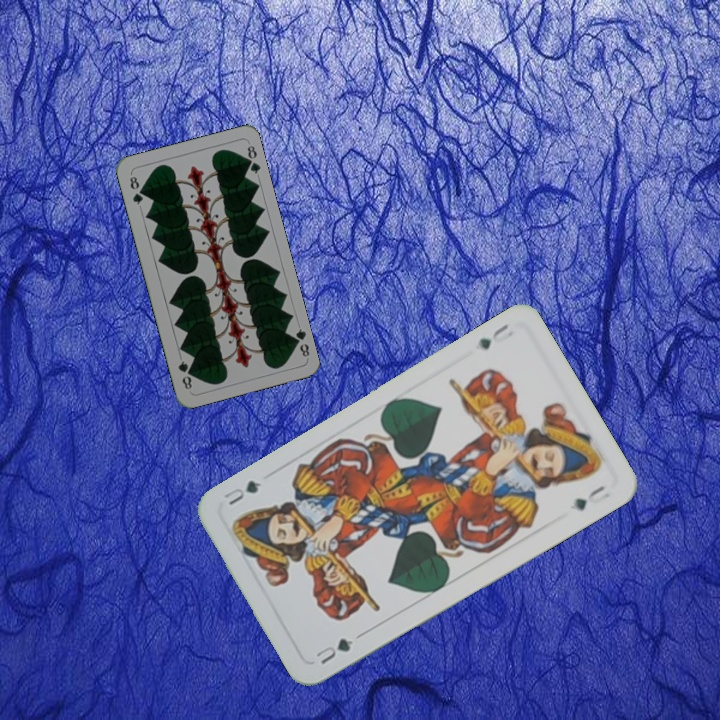G8: (288, 324, 312, 359), (126, 172, 145, 207)
GU: (311, 634, 356, 667), (474, 320, 516, 352)
